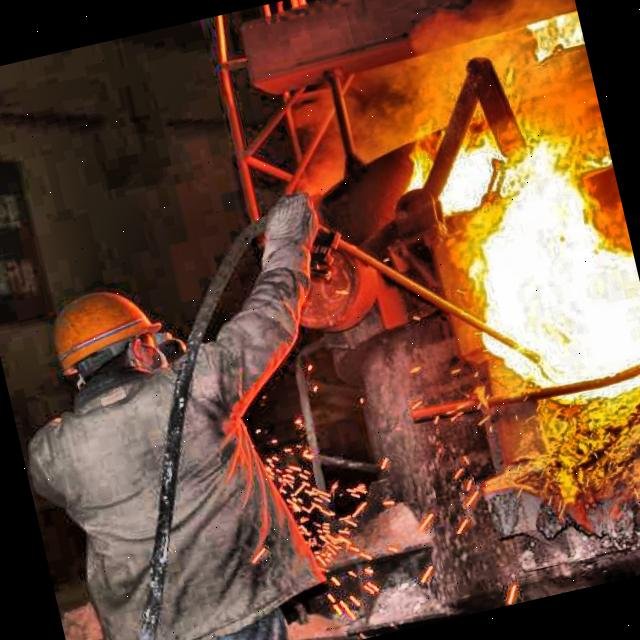helmet: (26, 264, 186, 412)
